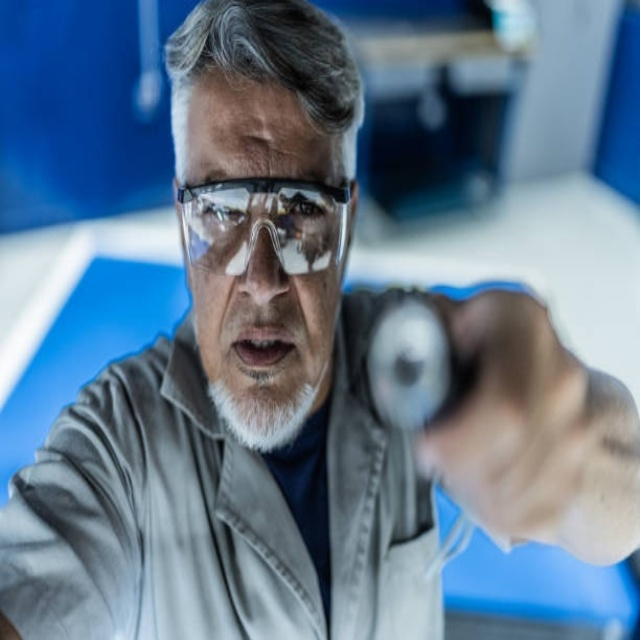Gafas: (176, 177, 355, 276)
Sin_mascara: (226, 315, 304, 404)
